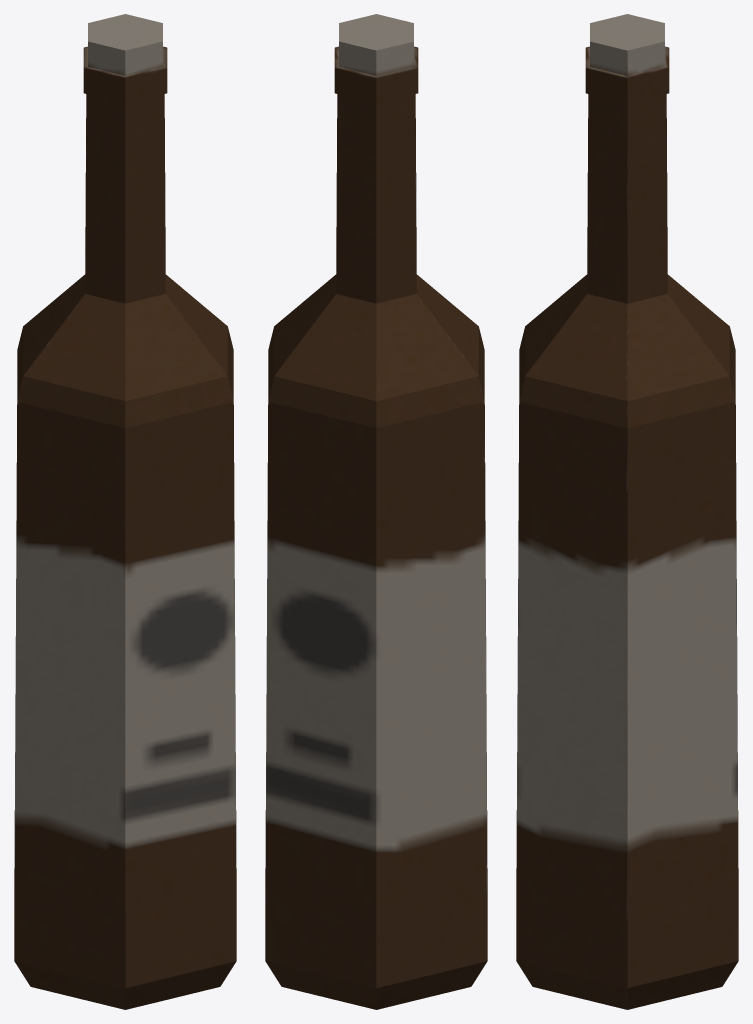
The model's file is SM_Food_Bottle_06.fbx.
3 renders of one model, left to right at view 1: azimuth 30°, elevation 25°; view 2: azimuth 150°, elevation 25°; view 3: azimuth 270°, elevation 25°, orthographic.
Visible parts, largest first — view 1: SM_Food_Bottle_06; view 2: SM_Food_Bottle_06; view 3: SM_Food_Bottle_06.
Part boxes in pixels (<box>): SM_Food_Bottle_06: <box>14,14,236,1009</box>; SM_Food_Bottle_06: <box>265,14,487,1009</box>; SM_Food_Bottle_06: <box>516,14,738,1009</box>.
Size of the model in its own units: 0.0765 by 0.3061 by 0.0663.
